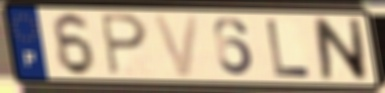6: (50, 11, 99, 78), (212, 17, 257, 78)
L: (264, 18, 313, 80)
N: (311, 16, 370, 84)
P: (97, 12, 151, 78)
V: (149, 13, 202, 80)
